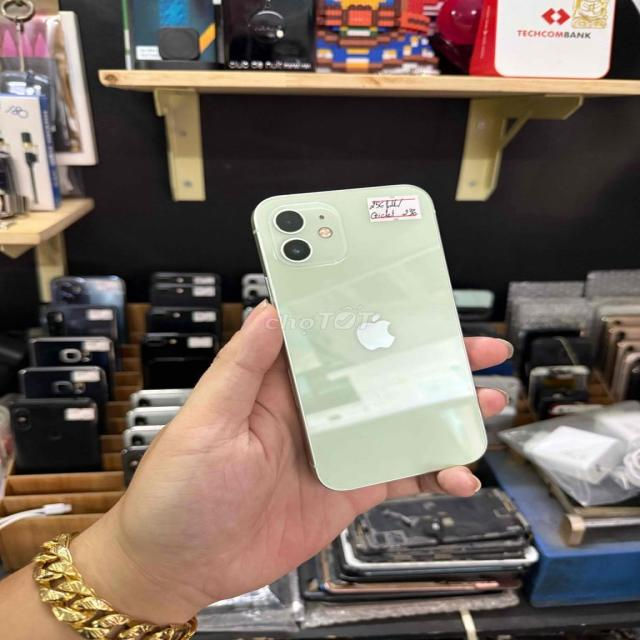gen_12_13: (243, 180, 500, 494)
